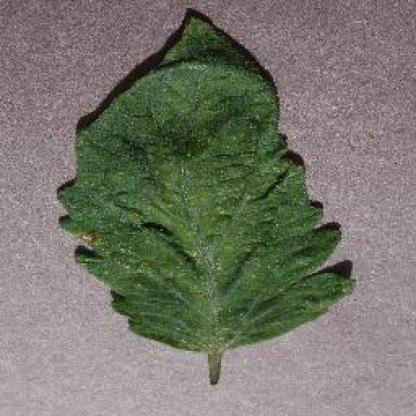Tomato_Spider_Mites: (59, 18, 356, 352)
